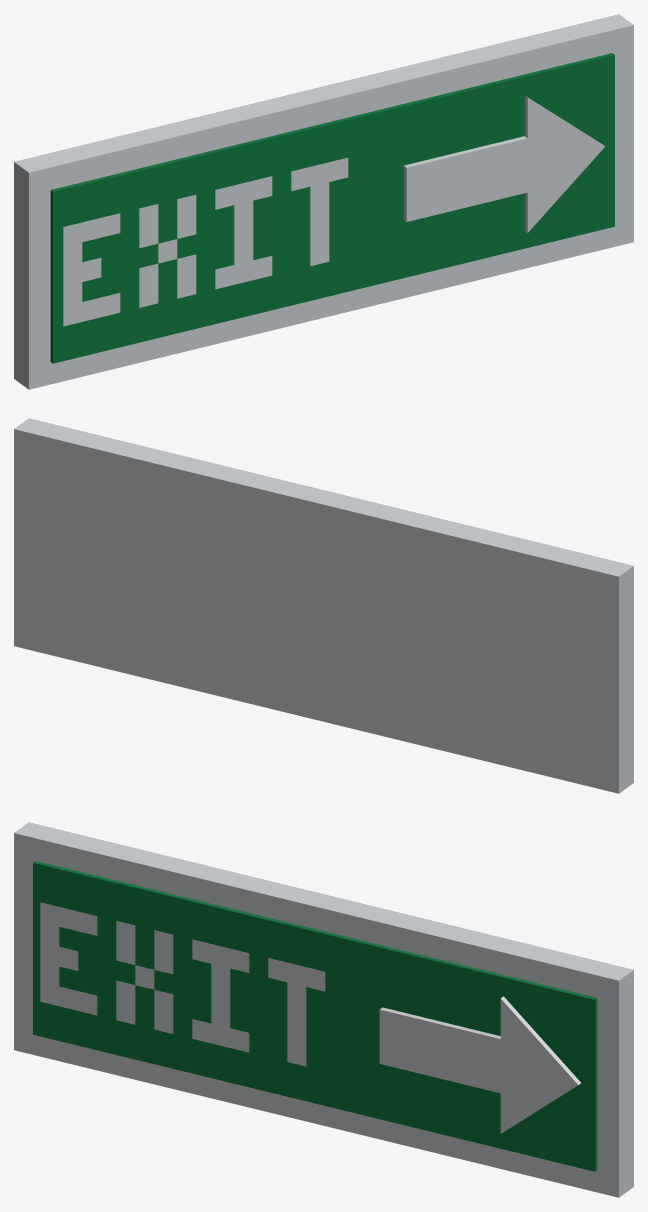
File: sign_exit_arrow.glb
The picture shows the model from 3 angles, top to bottom: view 1: azimuth 30°, elevation 25°; view 2: azimuth 150°, elevation 25°; view 3: azimuth 330°, elevation 25°; orthographic projection.
Visible parts, largest first — view 1: sign_exit_arrow; view 2: sign_exit_arrow; view 3: sign_exit_arrow.
Part boxes in pixels (x1=…): sign_exit_arrow: x1=14, y1=14, x2=633, y2=389; sign_exit_arrow: x1=14, y1=418, x2=633, y2=793; sign_exit_arrow: x1=14, y1=822, x2=633, y2=1197.
Size of the model in its own units: 0.7 by 0.24 by 0.042.
